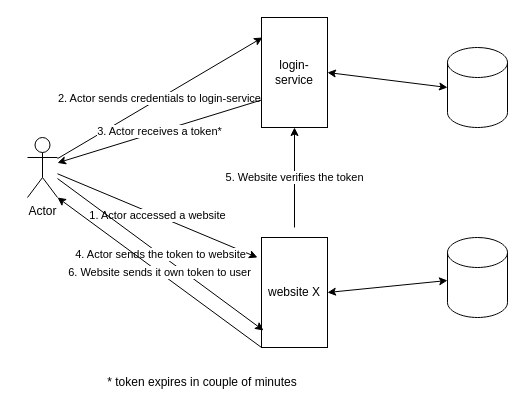
Some shapes in this 525 by 415 pixel diagram are drawn without their labels. Each missing label, with the box of its shape:
User DB: (446, 46, 508, 128)
website DB: (446, 236, 508, 318)
